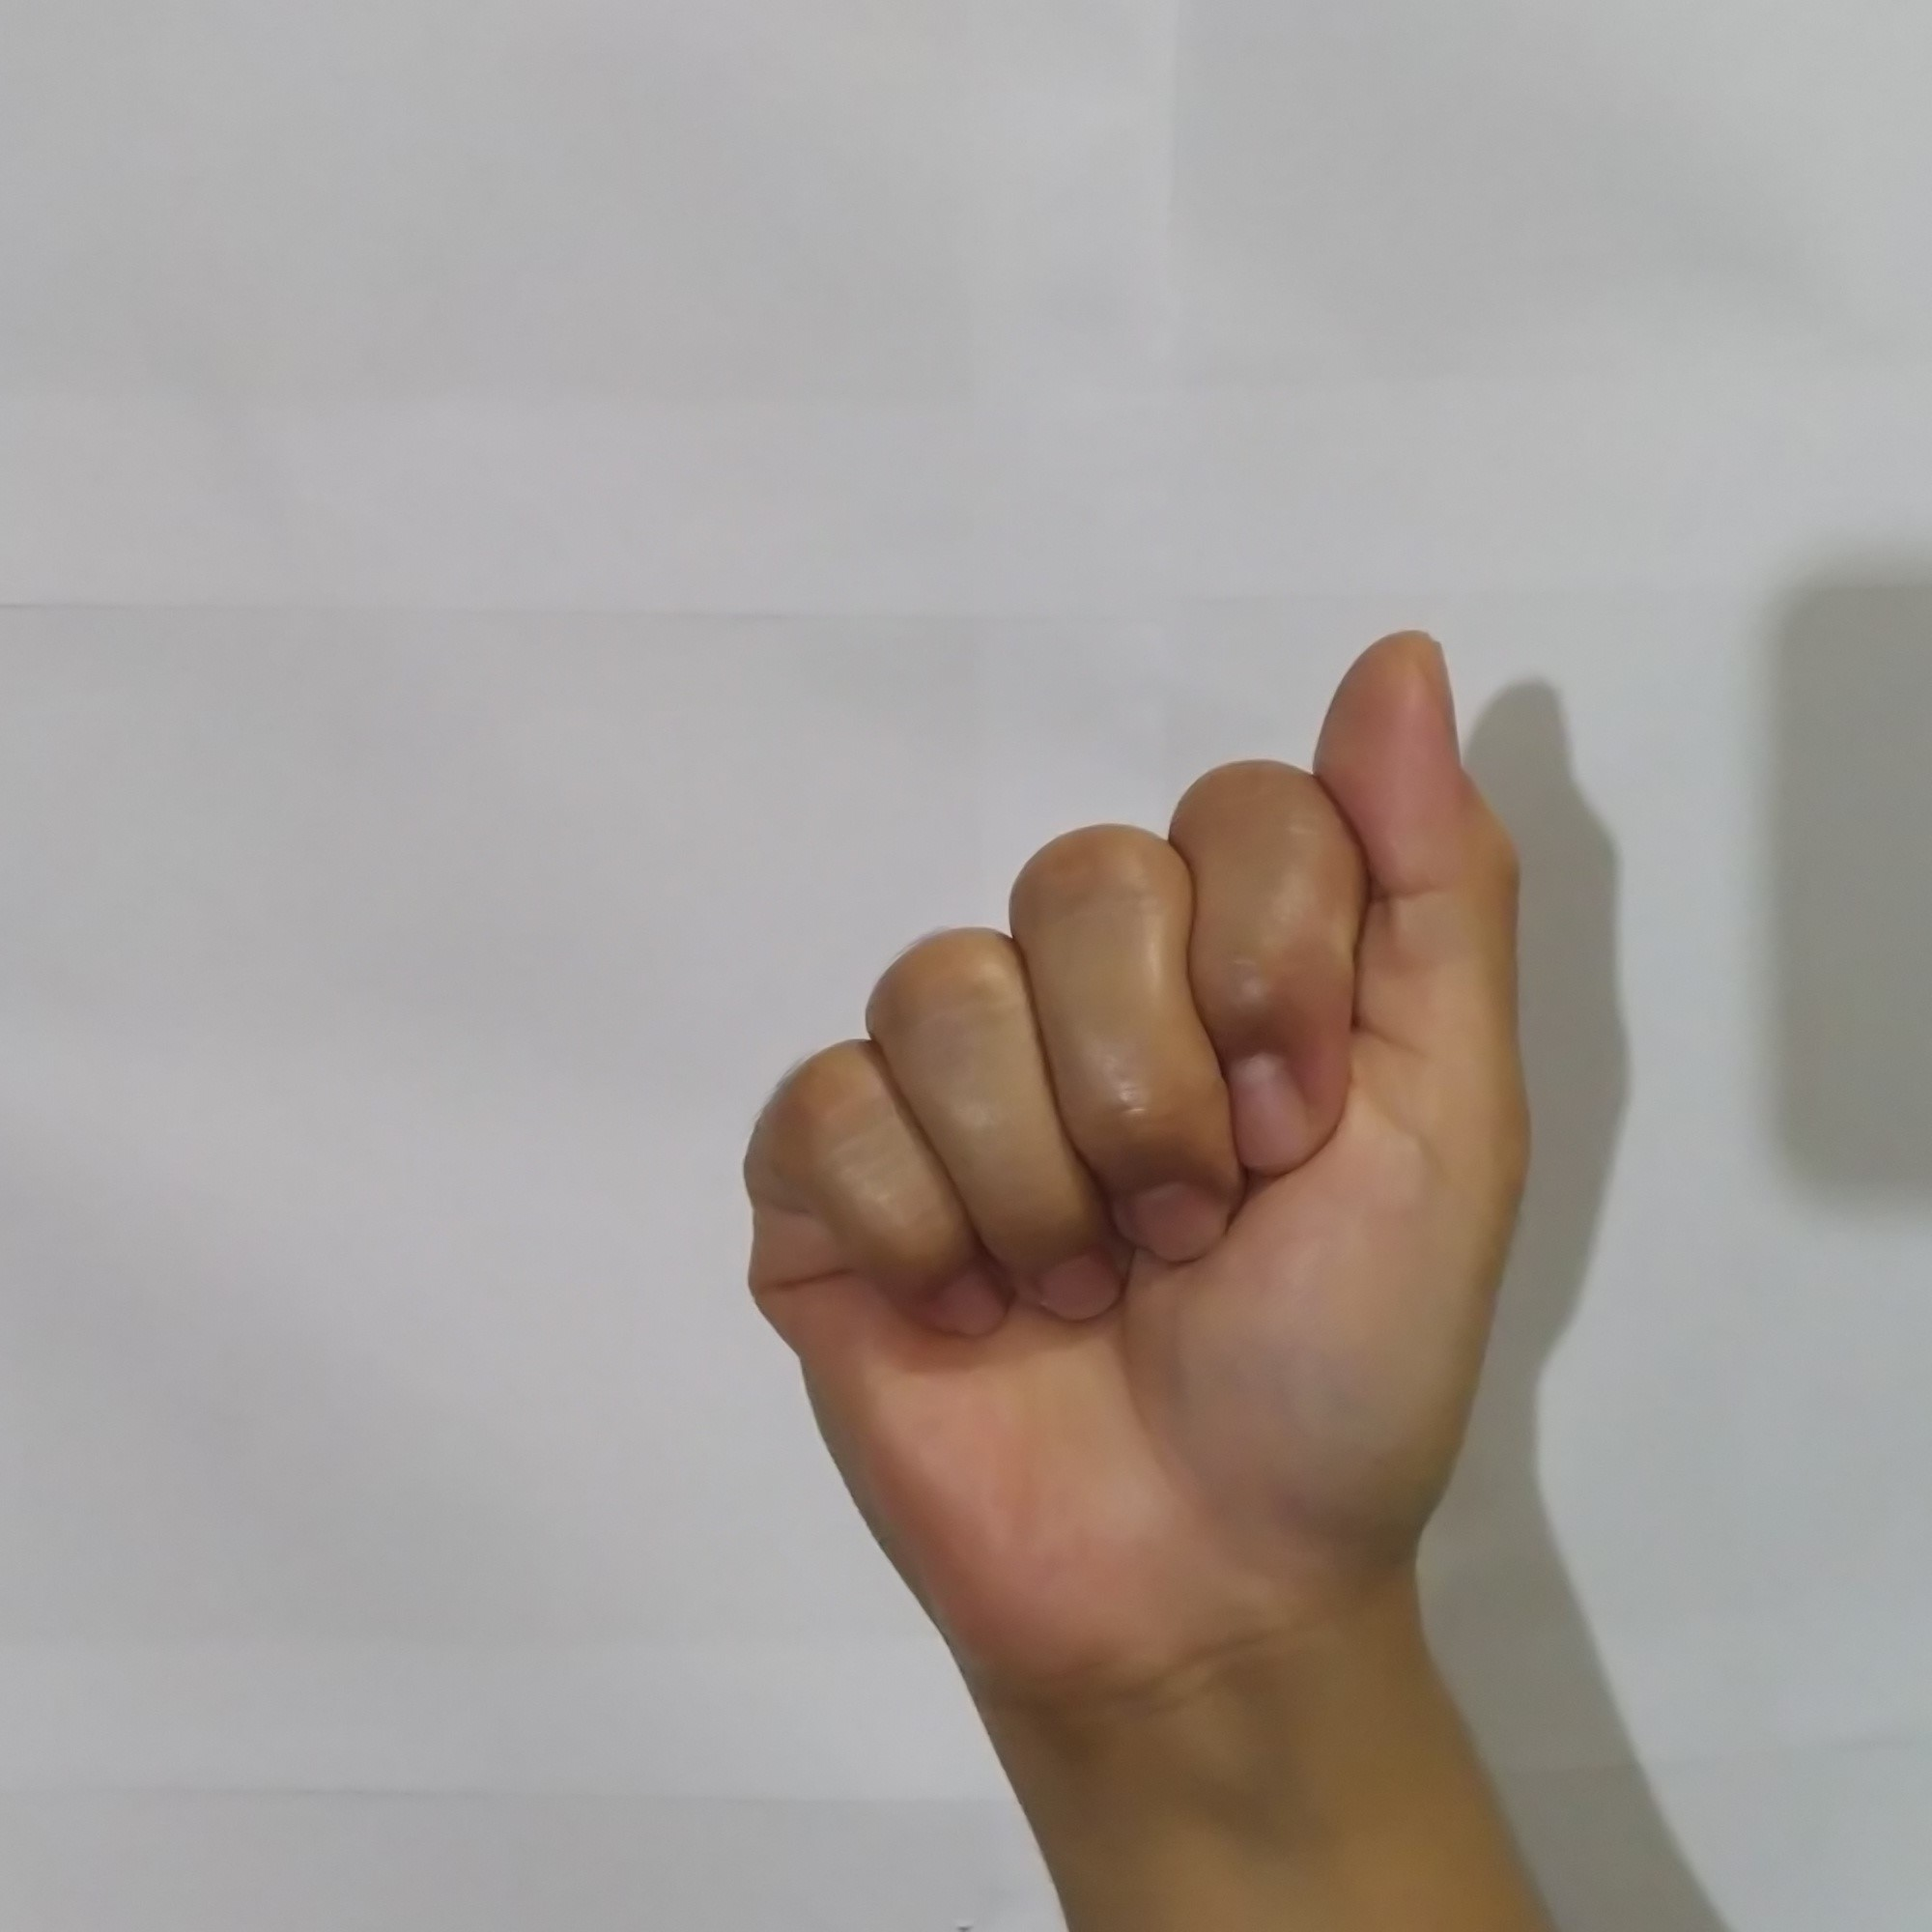A: (709, 605, 1564, 1675)
